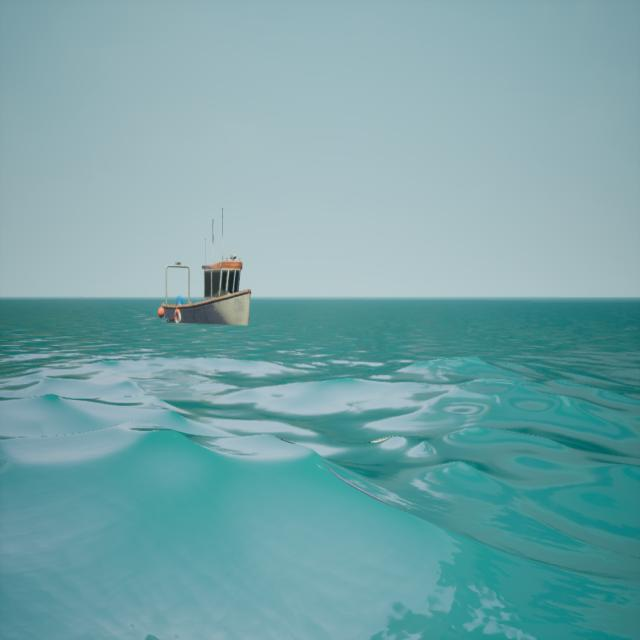ship: (149, 196, 258, 336)
